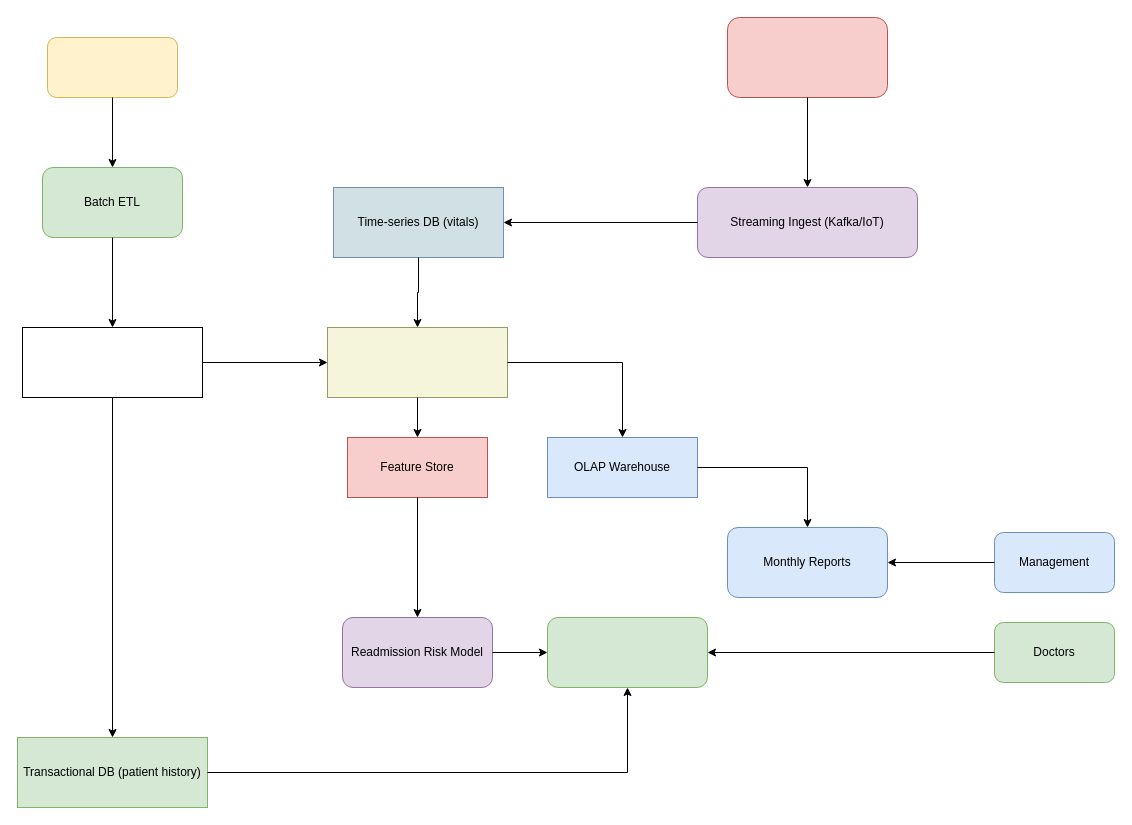
The diagram is 1132 pixels wide and 825 high, and some of its shapes have lost their labels. The shapes that lost their labels are listed below. From the top down, each one's box as (x1, y1, x2, y2) in pixels, then its label:
(46, 36, 178, 98): Data Engineers
(726, 16, 888, 98): ICU Monitoring Devices
(22, 326, 202, 398): Raw Data Lake (S3/ADLS)
(326, 326, 508, 398): Data Lakehouse (Curated)
(546, 616, 708, 688): NLP Query Service
